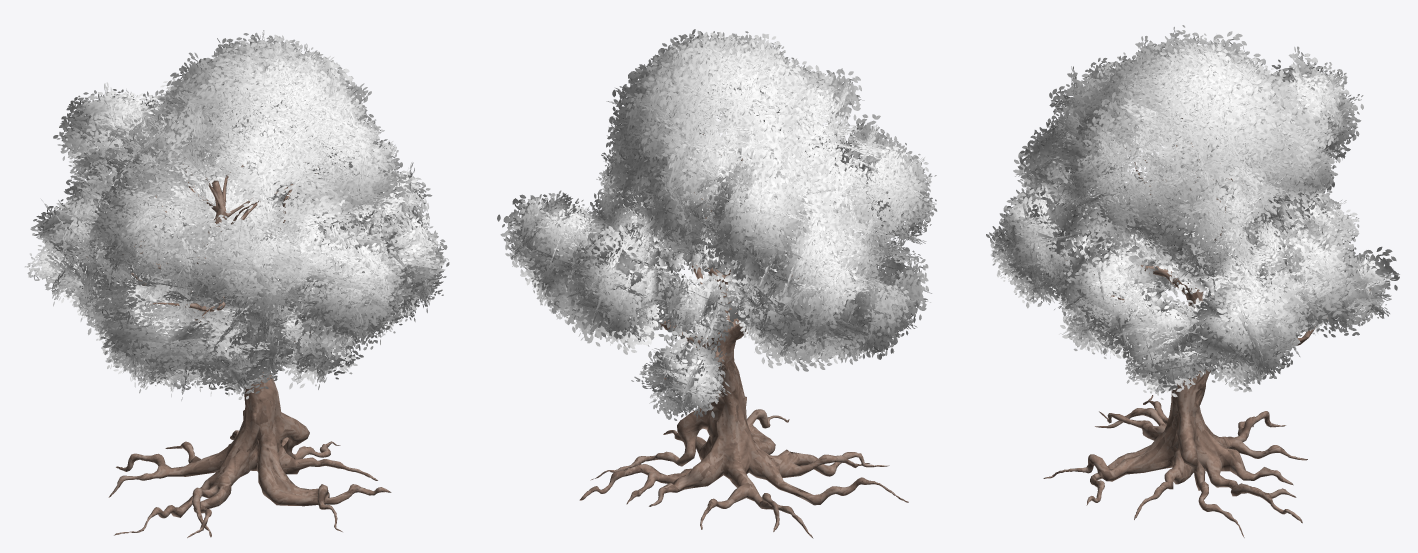
File: OakTree_03.fbx
The picture shows the model from 3 angles, left to right: view 1: azimuth 30°, elevation 25°; view 2: azimuth 150°, elevation 25°; view 3: azimuth 270°, elevation 25°; orthographic projection.
Parts seen in each view (by area): view 1: OakTree03_LOD0; view 2: OakTree03_LOD0; view 3: OakTree03_LOD0.
Boxes of the visible parts, x1,y1,x2,y2 form: OakTree03_LOD0: (24, 30, 449, 537); OakTree03_LOD0: (497, 29, 937, 538); OakTree03_LOD0: (986, 25, 1399, 537).
Size of the model in its own units: 1053 by 1187 by 1003.
